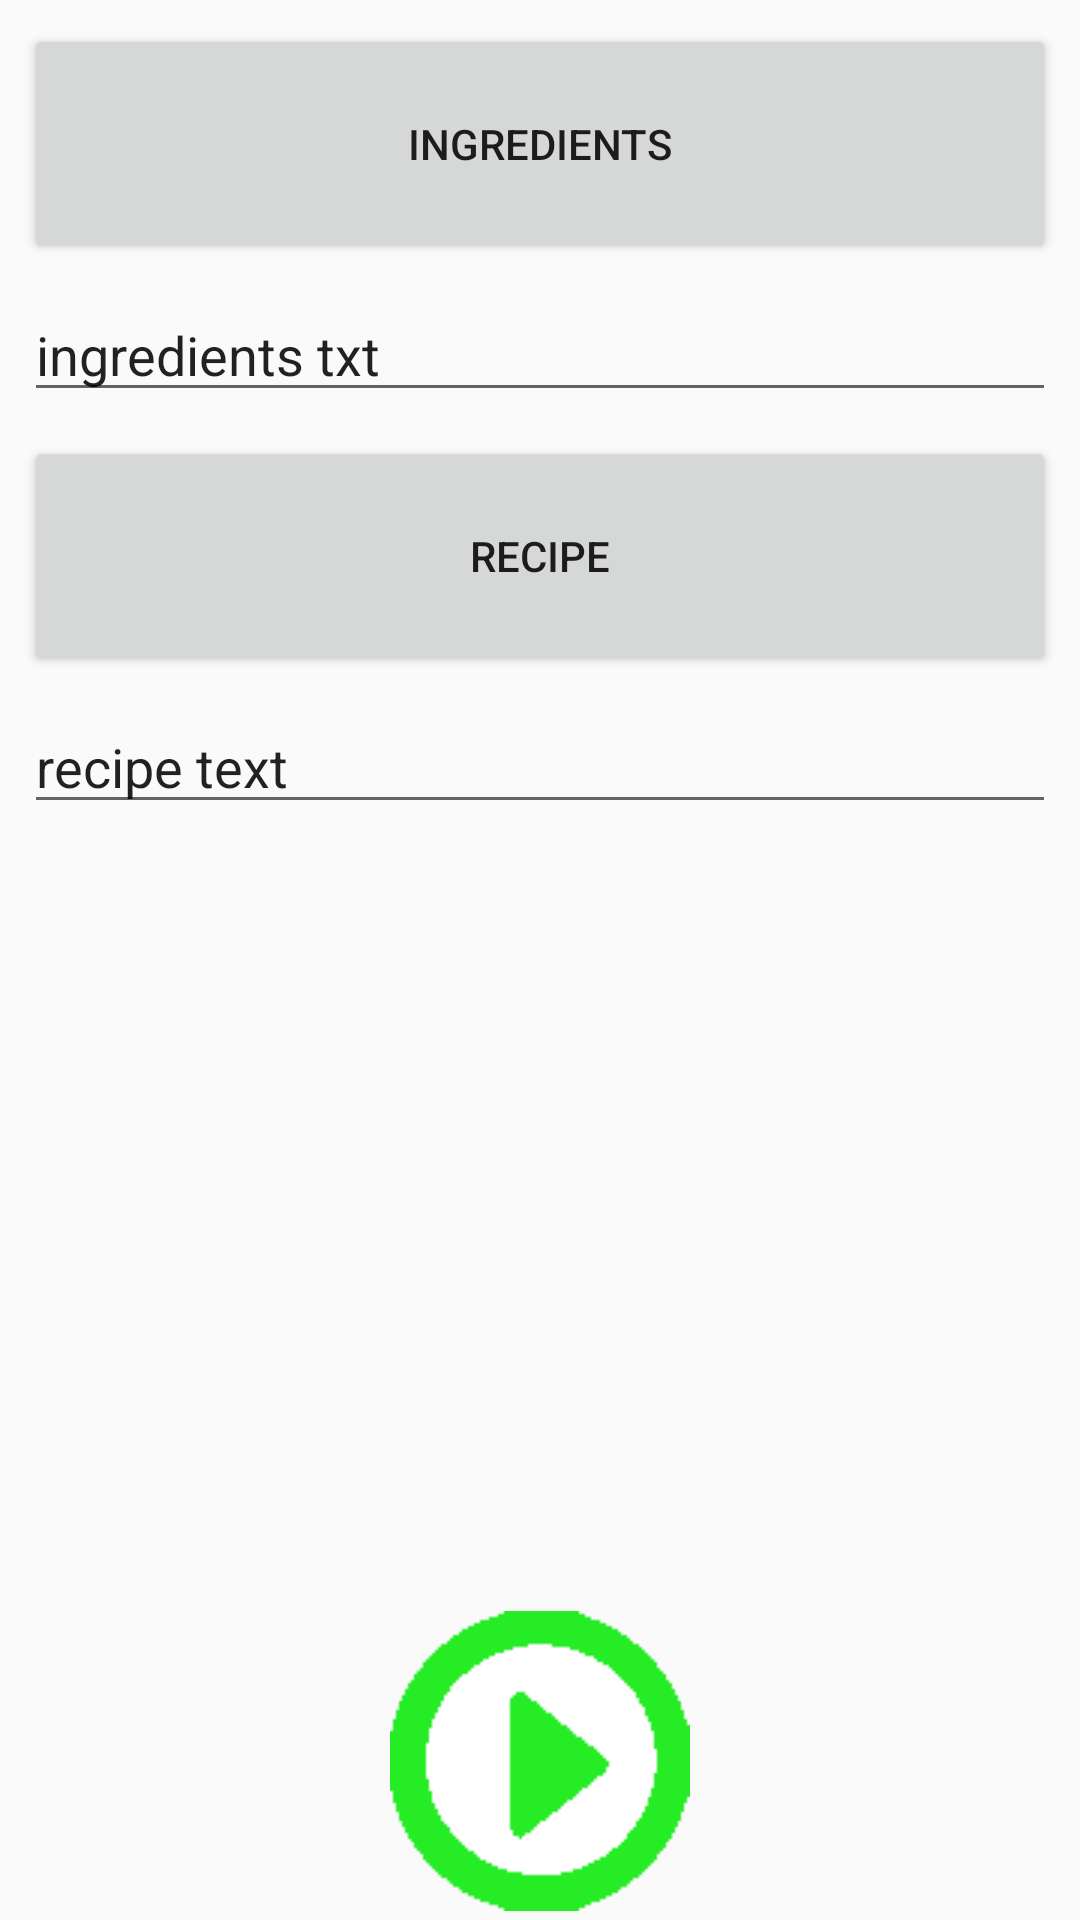

Where to tap for icons on this 1080w x 1920h app screen, as (x=x, y=y):
play: (x=540, y=1761)
